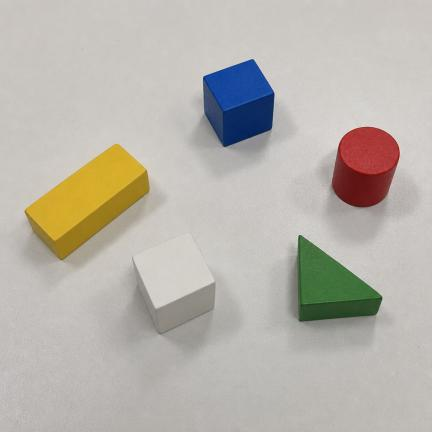BuildingBlocks: (25, 145, 149, 259), (133, 233, 215, 333), (298, 236, 382, 321), (203, 60, 274, 146), (333, 127, 399, 206)
